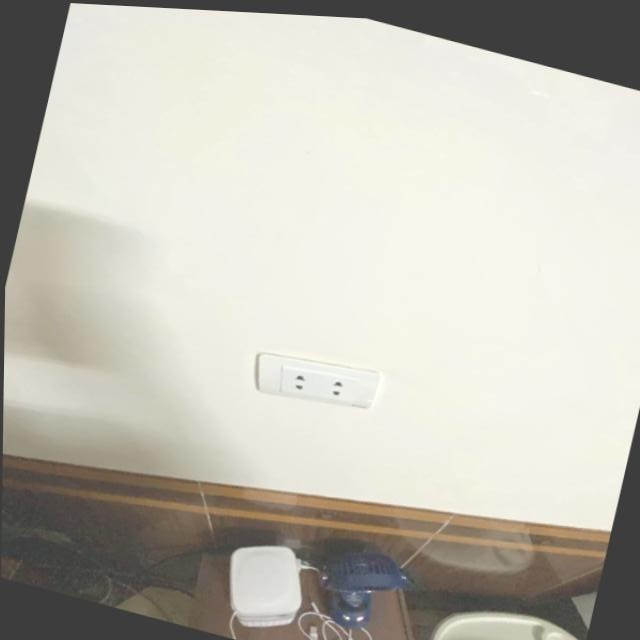outlet: (248, 341, 383, 423)
